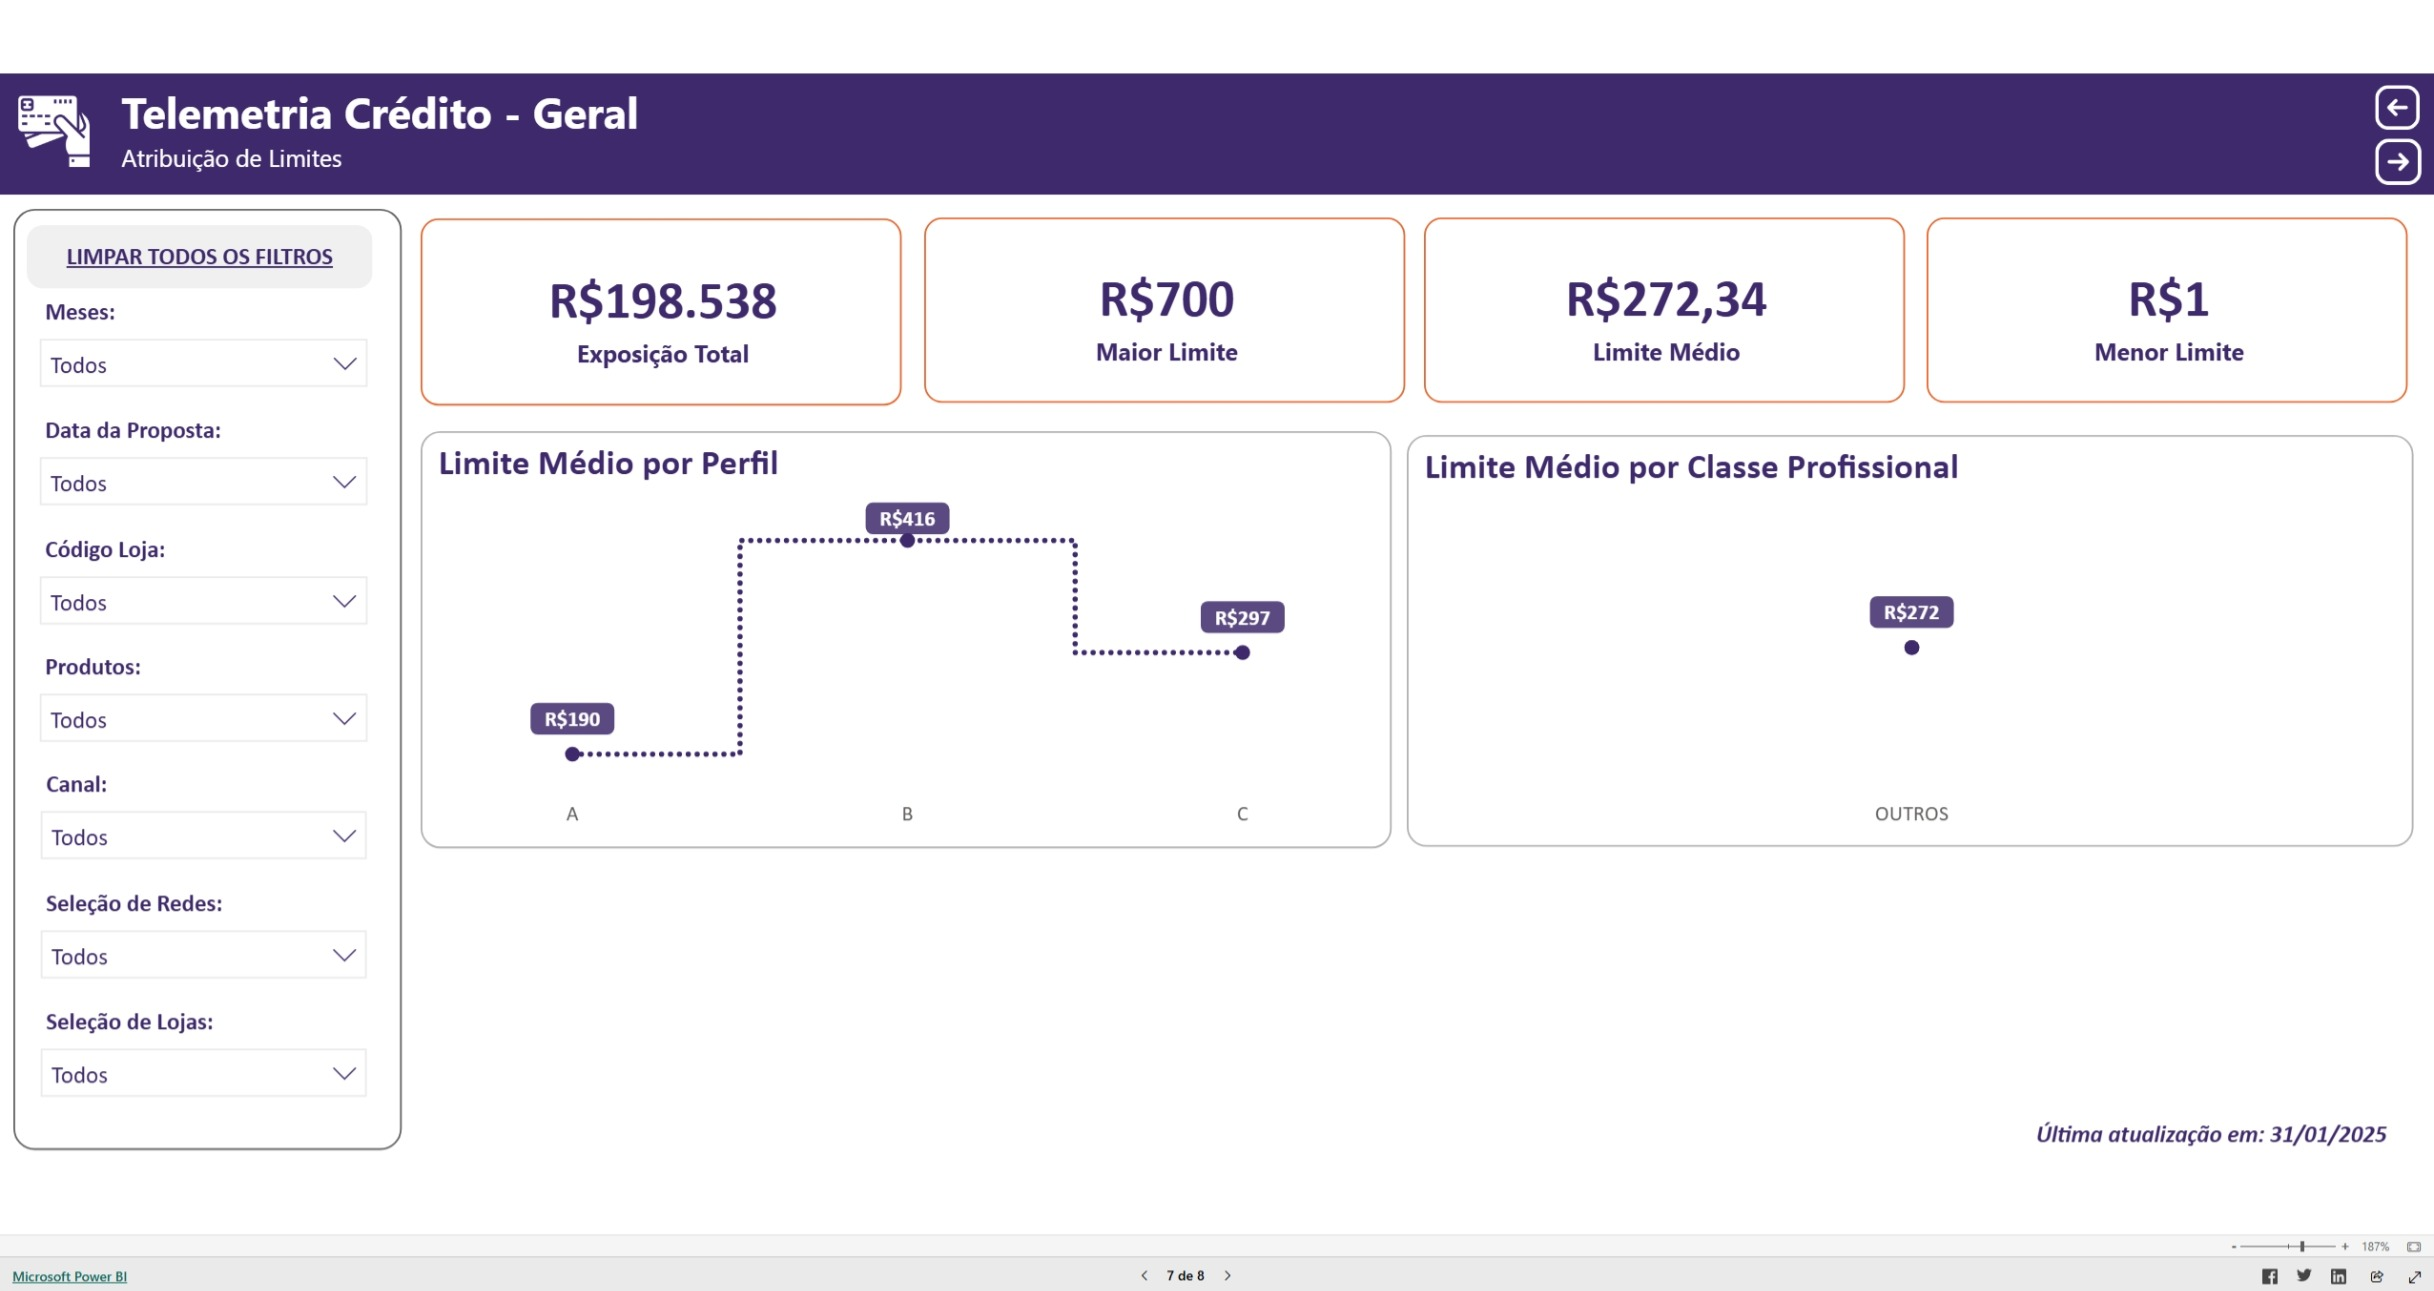

This screenshot's page, from the dashboard's own definition file:
{"tool":"powerbi","page":{"name":"Limite","canvas":[1366,610],"ordinal":6},"visuals":[{"type":"shape","box":[7.6,76.2,218.4,528.1],"z":0},{"type":"shape","box":[0,0,1366,68],"z":2000},{"type":"textbox","box":[63.4,0,430.8,44.4],"z":3000},{"type":"textbox","box":[63.2,33.8,430.4,30.8],"z":4000},{"type":"slicer","fields":{"Values":["Propostas.emissao.Variation.Hierarquia de datas.Ano","Propostas.emissao.Variation.Hierarquia de datas.Mês"]},"box":[12.5,119.9,204.2,64.6],"z":5000},{"type":"slicer","fields":{"Values":["Propostas.emissao"]},"box":[12.4,186.1,203.7,65.9],"z":6000},{"type":"slicer","fields":{"Values":["Propostas.lojista"]},"box":[12.4,253.2,203.7,64.7],"z":7000},{"type":"slicer","fields":{"Values":["Propostas.nome_produto"]},"box":[12.4,319.1,203.7,64.7],"z":8000},{"type":"slicer","fields":{"Values":["Propostas.nome_rede"]},"box":[12.7,451.9,203.1,64.7],"z":9000},{"type":"slicer","fields":{"Values":["Propostas.nome_loja"]},"box":[12.7,518,203.1,64.7],"z":10000},{"type":"slicer","fields":{"Values":["Propostas.canal"]},"box":[12.7,384.7,203.1,64.7],"z":11000},{"type":"shape","box":[15.2,85.1,194.2,35.5],"z":12000},{"type":"card","fields":{"Values":["#Medidas.atualizacao"]},"box":[1115.9,583.3,250.1,26.7],"z":13000},{"type":"image","box":[4.4,7.3,52.9,49.9],"z":14000},{"type":"image","box":[1327.8,1.5,35.3,35.3],"z":15000},{"type":"card","fields":{"Values":["Sum(Propostas.limite_credito_cartao)"]},"box":[236.1,81.2,270,105],"z":17000},{"type":"card","fields":{"Values":["Max(Propostas.limite_credito_cartao)"]},"box":[518.5,80.8,270.3,104.3],"z":18000},{"type":"card","fields":{"Values":["Min(Propostas.limite_credito_cartao)"]},"box":[1081,80.8,270.3,104.3],"z":19000},{"type":"card","fields":{"Values":["Avg(Propostas.limite_credito_cartao)"]},"box":[799,80.8,270.3,104.3],"z":20000},{"type":"lineChart","title":"Limite Médio por Perfil","fields":{"Category":["Propostas.perfil"],"Y":["Avg(Propostas.limite_credito_cartao)"]},"box":[236.1,200.6,544.6,233.6],"z":21000},{"type":"lineChart","title":"Limite Médio por Classe Profissional","fields":{"Y":["Avg(Propostas.limite_credito_cartao)"],"Category":["Propostas.profissão"]},"box":[789.6,203.1,564.9,231.1],"z":22000},{"type":"image","box":[1327.9,31.7,35.5,35.5],"z":23000}]}

Visuals, with their boxes on the page's 1366x610 design canvas (x1, y1, x2, y2). These are canvas units, not pixel positions in the 2434x1291 screenshot, which may show the page scaled, cropped or inside an application window:
shape: {"x1": 8, "y1": 76, "x2": 226, "y2": 604}
shape: {"x1": 0, "y1": 0, "x2": 1366, "y2": 68}
textbox: {"x1": 63, "y1": 0, "x2": 494, "y2": 44}
textbox: {"x1": 63, "y1": 34, "x2": 494, "y2": 65}
slicer - Propostas.emissao.Variation.Hierarquia de datas.Ano x Propostas.emissao.Variation.Hierarquia de datas.Mês: {"x1": 12, "y1": 120, "x2": 217, "y2": 184}
slicer - Propostas.emissao: {"x1": 12, "y1": 186, "x2": 216, "y2": 252}
slicer - Propostas.lojista: {"x1": 12, "y1": 253, "x2": 216, "y2": 318}
slicer - Propostas.nome_produto: {"x1": 12, "y1": 319, "x2": 216, "y2": 384}
slicer - Propostas.nome_rede: {"x1": 13, "y1": 452, "x2": 216, "y2": 517}
slicer - Propostas.nome_loja: {"x1": 13, "y1": 518, "x2": 216, "y2": 583}
slicer - Propostas.canal: {"x1": 13, "y1": 385, "x2": 216, "y2": 449}
shape: {"x1": 15, "y1": 85, "x2": 209, "y2": 121}
card - #Medidas.atualizacao: {"x1": 1116, "y1": 583, "x2": 1366, "y2": 610}
image: {"x1": 4, "y1": 7, "x2": 57, "y2": 57}
image: {"x1": 1328, "y1": 2, "x2": 1363, "y2": 37}
card - Sum(Propostas.limite_credito_cartao): {"x1": 236, "y1": 81, "x2": 506, "y2": 186}
card - Max(Propostas.limite_credito_cartao): {"x1": 518, "y1": 81, "x2": 789, "y2": 185}
card - Min(Propostas.limite_credito_cartao): {"x1": 1081, "y1": 81, "x2": 1351, "y2": 185}
card - Avg(Propostas.limite_credito_cartao): {"x1": 799, "y1": 81, "x2": 1069, "y2": 185}
"Limite Médio por Perfil" lineChart: {"x1": 236, "y1": 201, "x2": 781, "y2": 434}
"Limite Médio por Classe Profissional" lineChart: {"x1": 790, "y1": 203, "x2": 1354, "y2": 434}
image: {"x1": 1328, "y1": 32, "x2": 1363, "y2": 67}
